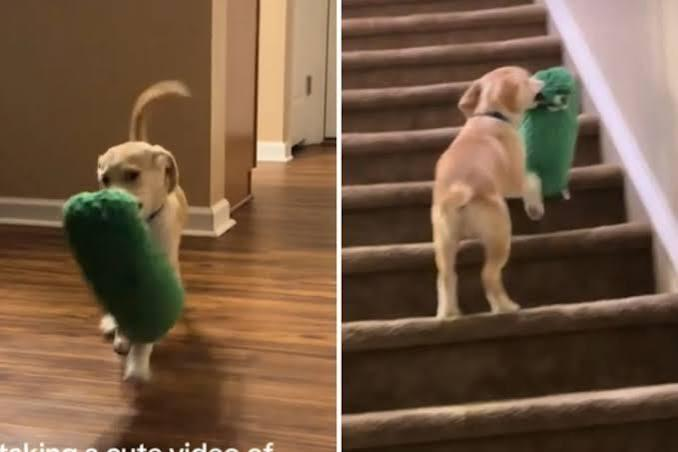puppy-dog: (430, 60, 545, 322), (97, 78, 192, 382)
